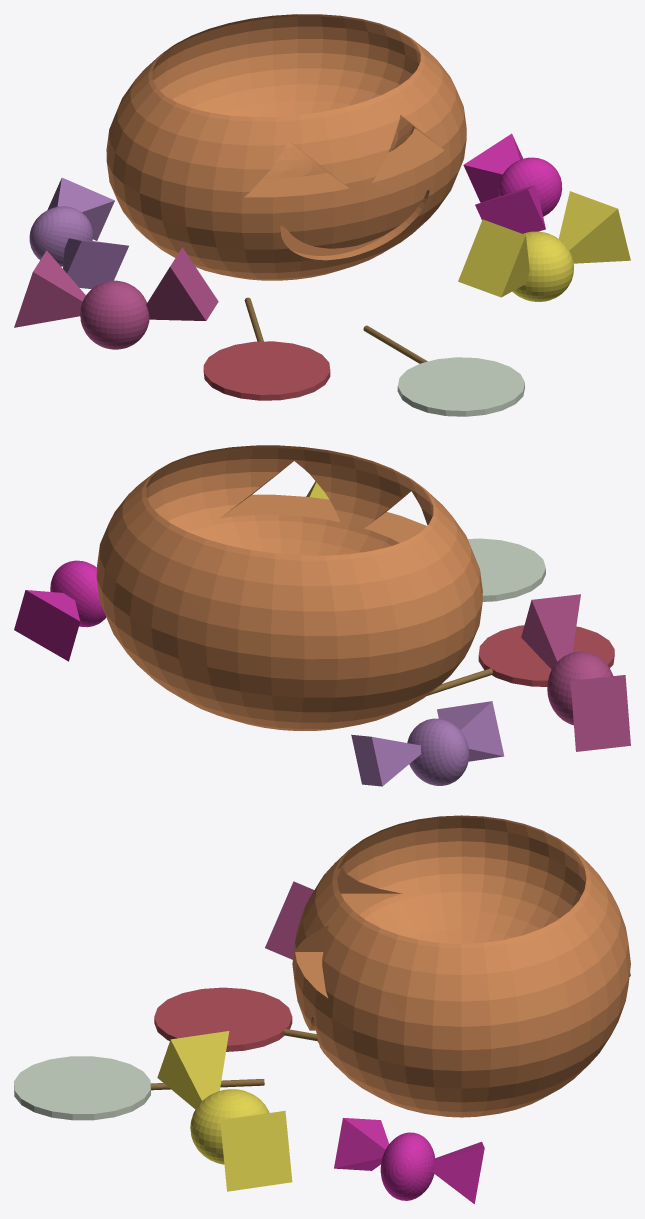
File: asset.glb
3 renders of one model, top to bottom at view 1: azimuth 30°, elevation 25°; view 2: azimuth 150°, elevation 25°; view 3: azimuth 270°, elevation 25°, orthographic. The views are drawn at different scales.
Parts seen in each view (by area): view 1: Mesh_Mesh_head_geo.001_lambert2SG.001; view 2: Mesh_Mesh_head_geo.001_lambert2SG.001; view 3: Mesh_Mesh_head_geo.001_lambert2SG.001.
Part boxes in pixels (x1,y1,x2,y2): Mesh_Mesh_head_geo.001_lambert2SG.001: (14, 14, 630, 416); Mesh_Mesh_head_geo.001_lambert2SG.001: (14, 445, 630, 786); Mesh_Mesh_head_geo.001_lambert2SG.001: (14, 815, 630, 1203).
Size of the model in its own units: 99 by 34 by 89.29.
